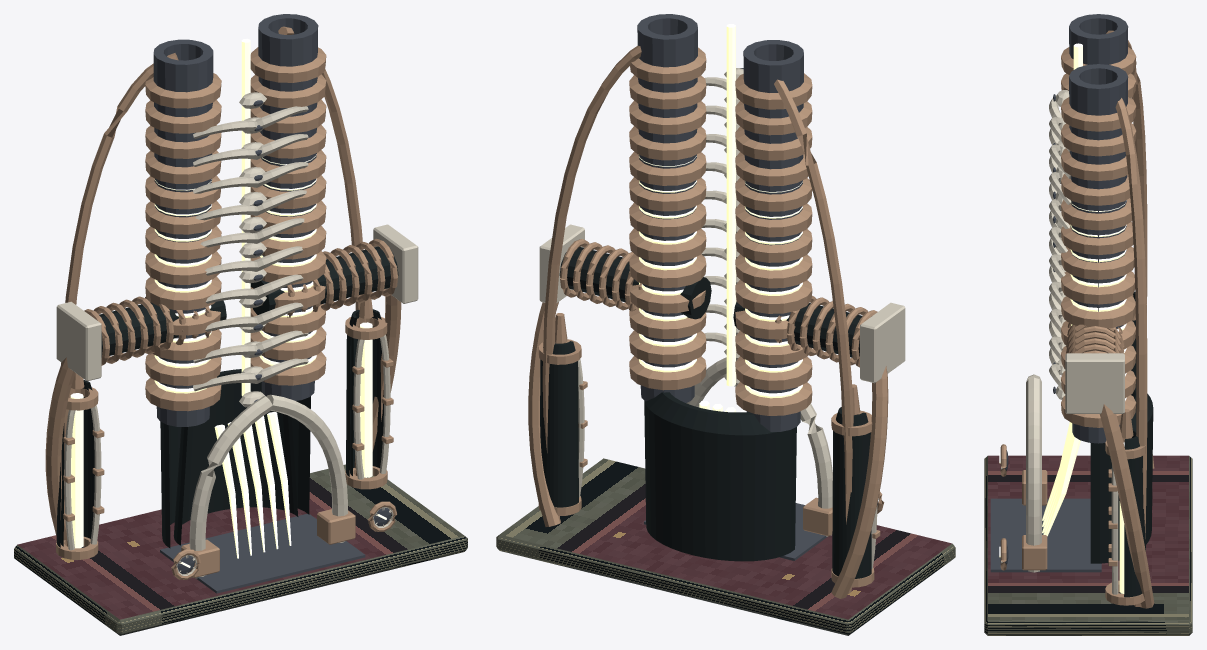
File: foundry_cross_spine.glb
3 renders of one model, left to right at view 1: azimuth 30°, elevation 25°; view 2: azimuth 150°, elevation 25°; view 3: azimuth 270°, elevation 25°, orthographic. The views are drawn at different scales.
Parts seen in each view (by area): view 1: foundry_cross_spine_worn, foundry_cross_spine_petrol, foundry_cross_spine_warm, foundry_cross_spine_deep, foundry_cross_spine_sick; view 2: foundry_cross_spine_worn, foundry_cross_spine_petrol, foundry_cross_spine_deep, foundry_cross_spine_warm, foundry_cross_spine_sick; view 3: foundry_cross_spine_worn, foundry_cross_spine_petrol, foundry_cross_spine_deep, foundry_cross_spine_warm, foundry_cross_spine_sick.
Boxes of the visible parts, <box> form: foundry_cross_spine_worn: <box>45,26,401,579</box>; foundry_cross_spine_petrol: <box>14,246,467,635</box>; foundry_cross_spine_warm: <box>56,92,418,578</box>; foundry_cross_spine_deep: <box>153,14,391,593</box>; foundry_cross_spine_sick: <box>70,38,386,567</box>; foundry_cross_spine_worn: <box>528,45,888,598</box>; foundry_cross_spine_petrol: <box>496,247,955,635</box>; foundry_cross_spine_deep: <box>637,14,878,560</box>; foundry_cross_spine_warm: <box>539,68,905,568</box>; foundry_cross_spine_sick: <box>639,24,802,412</box>; foundry_cross_spine_worn: <box>1000,30,1154,608</box>; foundry_cross_spine_petrol: <box>984,291,1192,635</box>; foundry_cross_spine_deep: <box>990,14,1128,572</box>; foundry_cross_spine_warm: <box>1001,90,1124,594</box>; foundry_cross_spine_sick: <box>999,43,1126,593</box>.
Bounding box in the file's own units: 5.9 × 8.34 × 3.1.
Materials: 5 (1 with a texture image).
